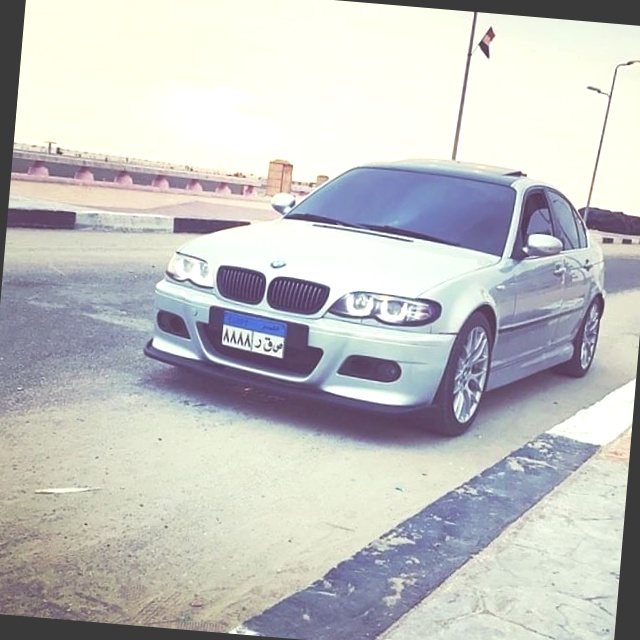License Plate: (219, 307, 291, 360)
